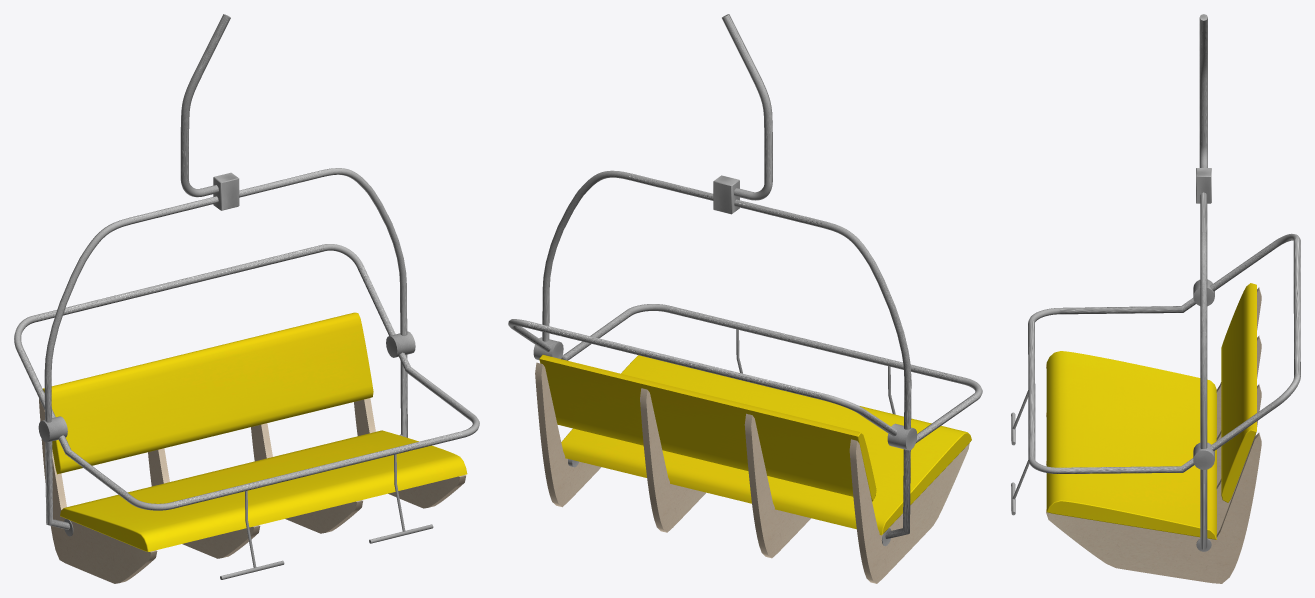
Rendered from Telesilla.obj.
The picture shows the model from 3 angles, left to right: view 1: azimuth 30°, elevation 25°; view 2: azimuth 150°, elevation 25°; view 3: azimuth 270°, elevation 25°; orthographic projection. The views are drawn at different scales.
Visible parts, largest first — view 1: SKI+CHAIRLIFT; view 2: SKI+CHAIRLIFT; view 3: SKI+CHAIRLIFT.
Boxes of the visible parts, x1,y1,x2,y2 form: SKI+CHAIRLIFT: [14, 14, 479, 583]; SKI+CHAIRLIFT: [508, 14, 982, 583]; SKI+CHAIRLIFT: [1011, 14, 1300, 583].
Bounding box in the file's own units: 246 × 331 × 175.
3 materials, 3 textured.
